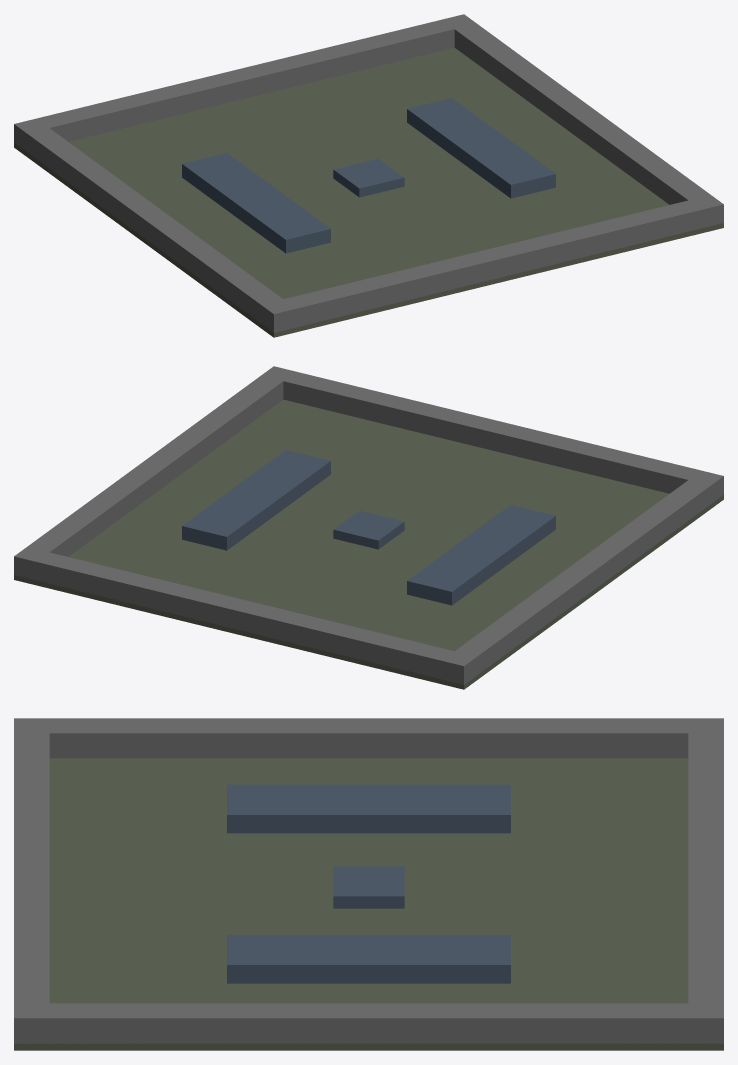
3 views of the same model, one above another, from view 1: azimuth 30°, elevation 25°; view 2: azimuth 150°, elevation 25°; view 3: azimuth 270°, elevation 25° (orthographic). The views are drawn at different scales.
Parts seen in each view (by area): view 1: floor-0, wall-4, wall-3, wall-1, wall-2, obstacle-6, obstacle-7, obstacle-5; view 2: floor-0, wall-3, wall-4, wall-1, wall-2, obstacle-6, obstacle-7, obstacle-5; view 3: floor-0, wall-2, wall-1, obstacle-6, obstacle-7, wall-3, wall-4, obstacle-5.
Boxes of the visible parts, <box> form: floor-0: <box>14,47,723,337</box>; wall-4: <box>261,199,723,332</box>; wall-3: <box>14,15,475,151</box>; wall-1: <box>14,118,296,332</box>; wall-2: <box>442,14,723,228</box>; obstacle-6: <box>182,153,330,253</box>; obstacle-7: <box>407,98,555,198</box>; obstacle-5: <box>333,158,404,197</box>; floor-0: <box>14,399,723,689</box>; wall-3: <box>14,551,476,683</box>; wall-4: <box>261,366,723,503</box>; wall-1: <box>441,470,723,684</box>; wall-2: <box>14,366,295,580</box>; obstacle-6: <box>407,505,555,605</box>; obstacle-7: <box>182,450,330,550</box>; obstacle-5: <box>333,510,404,549</box>; floor-0: <box>14,758,723,1050</box>; wall-2: <box>14,1003,723,1044</box>; wall-1: <box>14,718,723,758</box>; obstacle-6: <box>227,784,510,833</box>; obstacle-7: <box>227,935,510,983</box>; wall-3: <box>688,718,723,1043</box>; wall-4: <box>14,718,49,1043</box>; obstacle-5: <box>333,866,404,908</box>.
Size of the model in its own units: 100 by 5 by 100.
